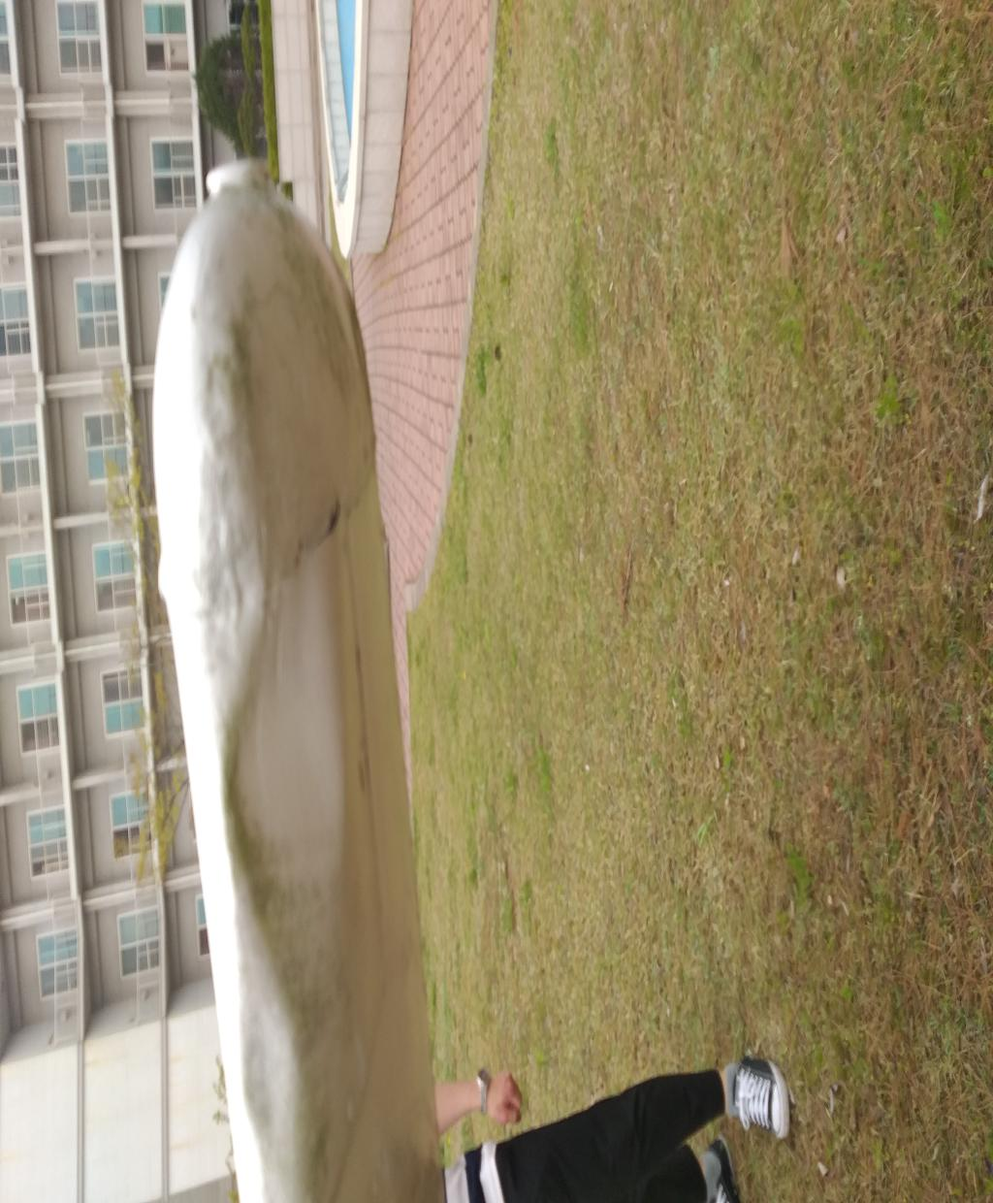dent: (123, 451, 307, 741), (23, 498, 100, 645)
